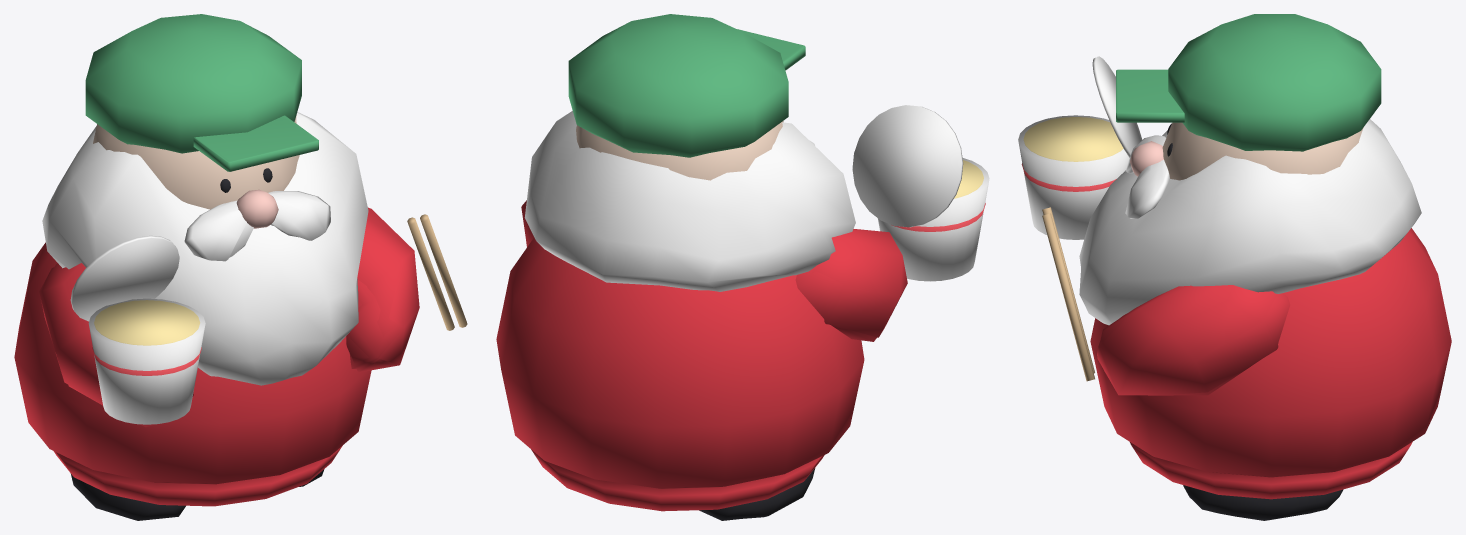
The model's file is store.glb.
3 views of the same model, side by side, from view 1: azimuth 30°, elevation 25°; view 2: azimuth 150°, elevation 25°; view 3: azimuth 270°, elevation 25° (orthographic). The views are drawn at different scales.
Visible parts, largest first — view 1: store_white, store_red, store_green, store_skin, store_noodle, store_black, store_wood, store_nose, store_ramenred; view 2: store_red, store_white, store_green, store_skin, store_black, store_noodle; view 3: store_red, store_white, store_green, store_skin, store_noodle, store_black, store_wood, store_nose, store_ramenred.
Part boxes in pixels (x1=…): store_white: x1=42, y1=112, x2=368, y2=424; store_red: x1=14, y1=207, x2=419, y2=506; store_green: x1=85, y1=14, x2=318, y2=171; store_skin: x1=93, y1=115, x2=299, y2=209; store_noodle: x1=94, y1=300, x2=200, y2=345; store_black: x1=70, y1=168, x2=324, y2=520; store_wood: x1=407, y1=214, x2=467, y2=330; store_nose: x1=236, y1=189, x2=278, y2=228; store_ramenred: x1=92, y1=347, x2=201, y2=375; store_red: x1=496, y1=200, x2=907, y2=511; store_white: x1=524, y1=105, x2=989, y2=291; store_green: x1=568, y1=14, x2=805, y2=157; store_skin: x1=576, y1=121, x2=783, y2=180; store_black: x1=699, y1=468, x2=815, y2=520; store_noodle: x1=954, y1=160, x2=983, y2=198; store_red: x1=1090, y1=228, x2=1451, y2=499; store_white: x1=1018, y1=56, x2=1421, y2=325; store_green: x1=1116, y1=14, x2=1381, y2=151; store_skin: x1=1162, y1=122, x2=1363, y2=180; store_noodle: x1=1023, y1=117, x2=1123, y2=161; store_black: x1=1167, y1=123, x2=1343, y2=520; store_wood: x1=1042, y1=207, x2=1094, y2=381; store_nose: x1=1130, y1=141, x2=1163, y2=176; store_ramenred: x1=1021, y1=163, x2=1116, y2=191.
Bounding box in the file's own units: 2.4 × 2.71 × 2.4.
